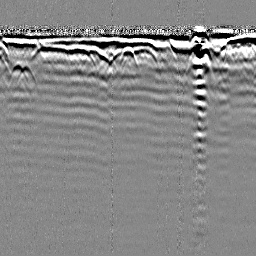cavity: (118, 45, 139, 67)
